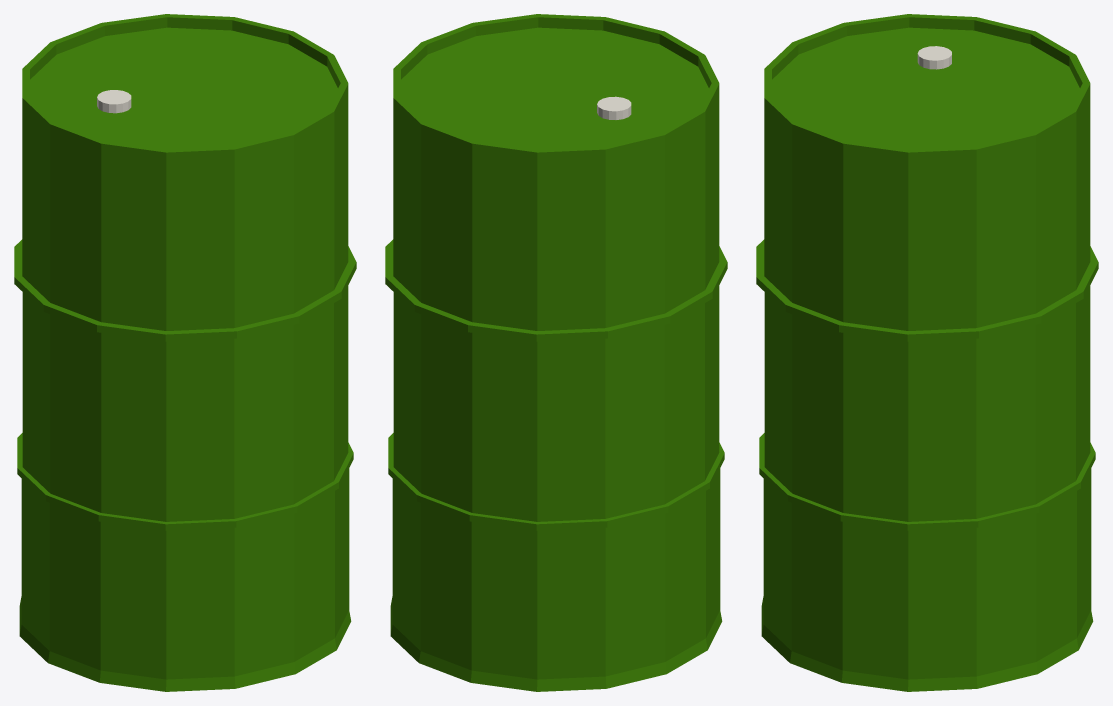
File: GasTankbarrel3.fbx
3 renders of one model, left to right at view 1: azimuth 30°, elevation 25°; view 2: azimuth 150°, elevation 25°; view 3: azimuth 270°, elevation 25°, orthographic.
Visible parts, largest first — view 1: Cylinder, Cylinder.001; view 2: Cylinder, Cylinder.001; view 3: Cylinder, Cylinder.001.
Boxes of the visible parts, box(x1,y1,x2,y2) form: Cylinder: box(14, 14, 356, 691); Cylinder.001: box(97, 90, 131, 113); Cylinder: box(385, 14, 727, 691); Cylinder.001: box(597, 96, 631, 119); Cylinder: box(756, 14, 1098, 691); Cylinder.001: box(917, 46, 951, 69).
Bounding box in the file's own units: 205 × 354 × 204.
